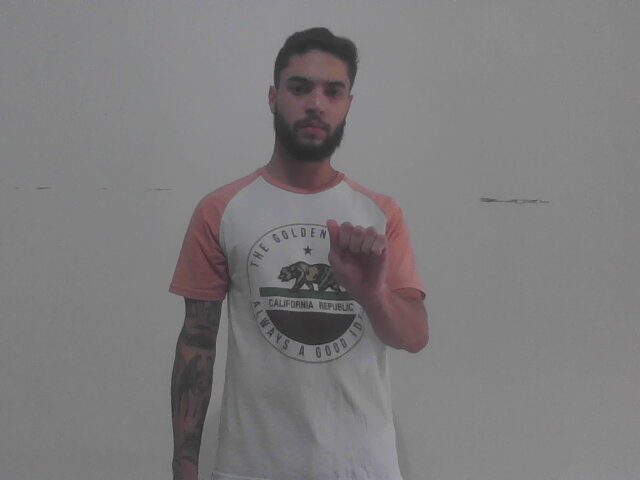a: (323, 211, 398, 303)
